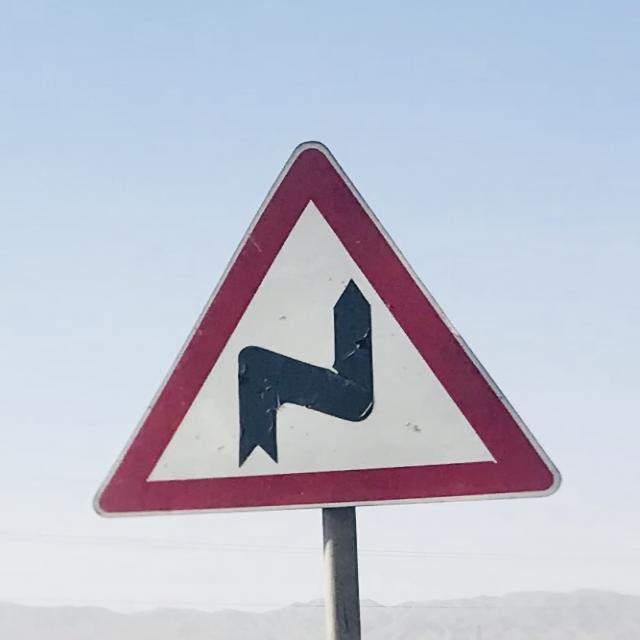right reverse bend: (89, 132, 567, 518)
